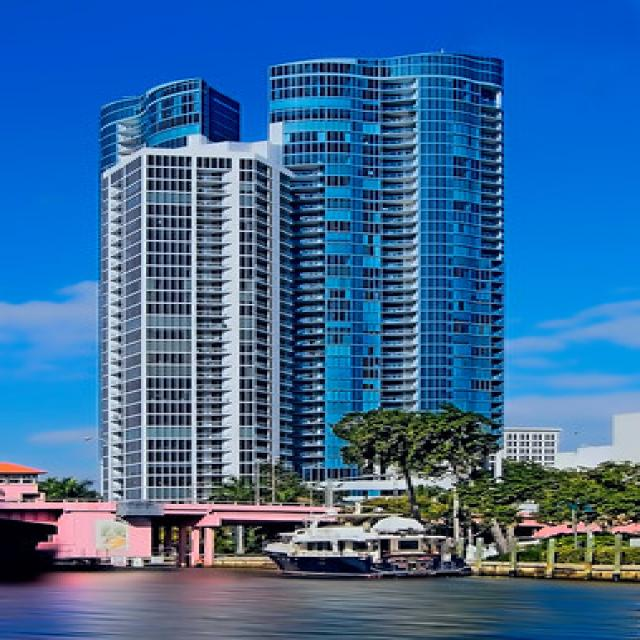Normal_building: (267, 45, 512, 504), (97, 142, 324, 509)
